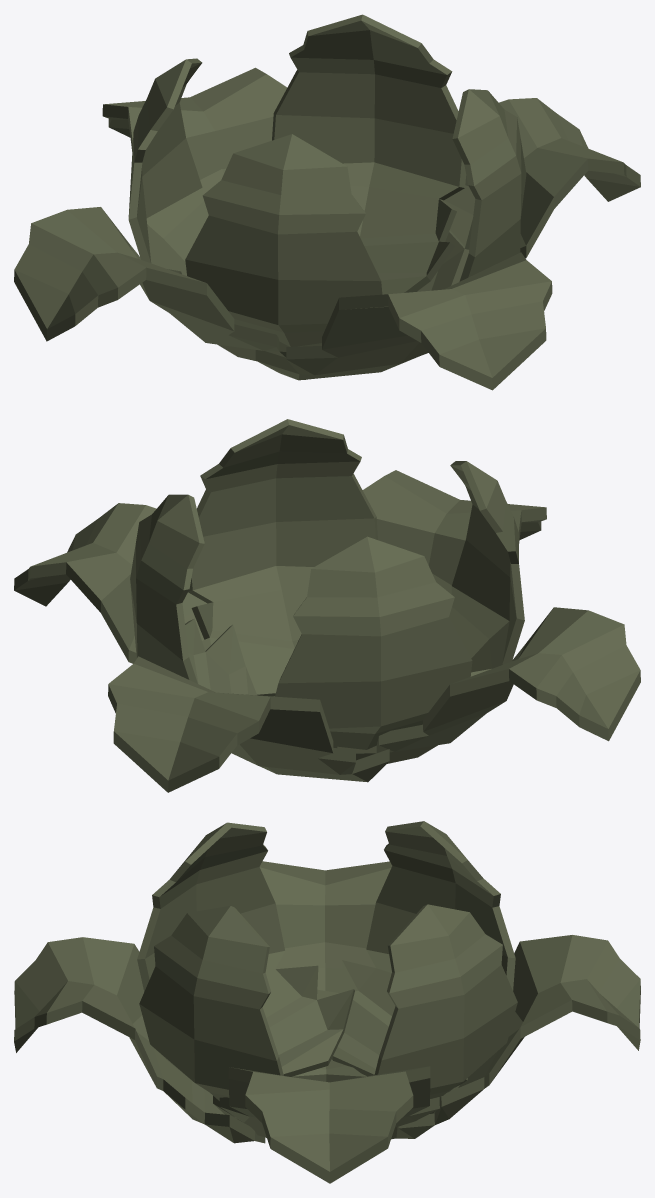
The model's file is lettuce_harvested.gltf.
The picture shows the model from 3 angles, top to bottom: view 1: azimuth 30°, elevation 25°; view 2: azimuth 150°, elevation 25°; view 3: azimuth 270°, elevation 25°; orthographic projection. The views are drawn at different scales.
Parts seen in each view (by area): view 1: lettuce_harvested; view 2: lettuce_harvested; view 3: lettuce_harvested.
Part boxes in pixels (x1,y1,x2,y2): lettuce_harvested: (14, 14, 640, 390); lettuce_harvested: (14, 419, 640, 792); lettuce_harvested: (14, 821, 640, 1183).
Bounding box in the file's own units: 1.04 × 0.4742 × 1.04.
Materials: 1 (1 with a texture image).
